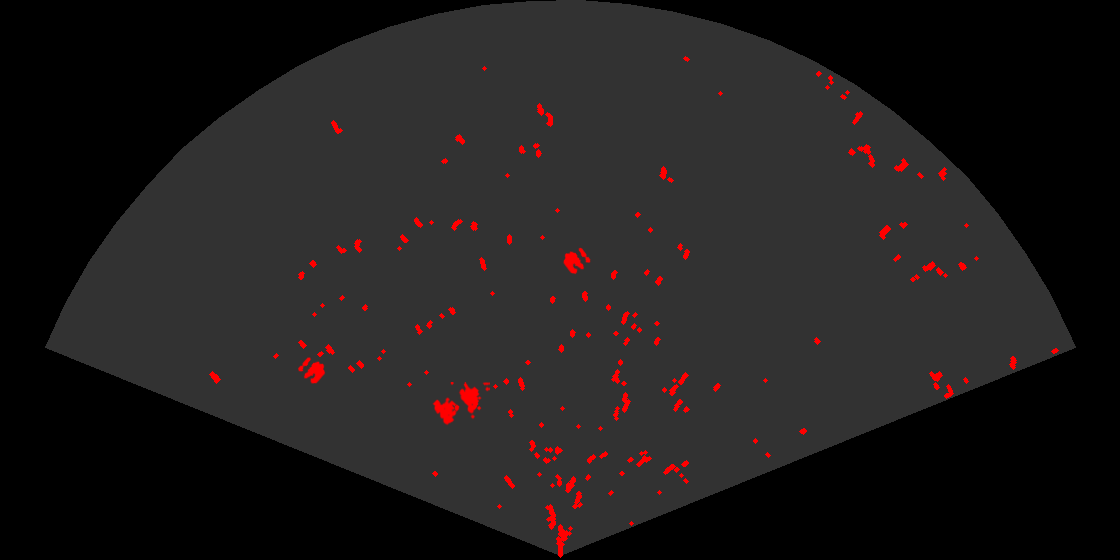ball: (562, 246, 592, 276), (296, 356, 327, 385)
cage: (431, 382, 490, 427)
